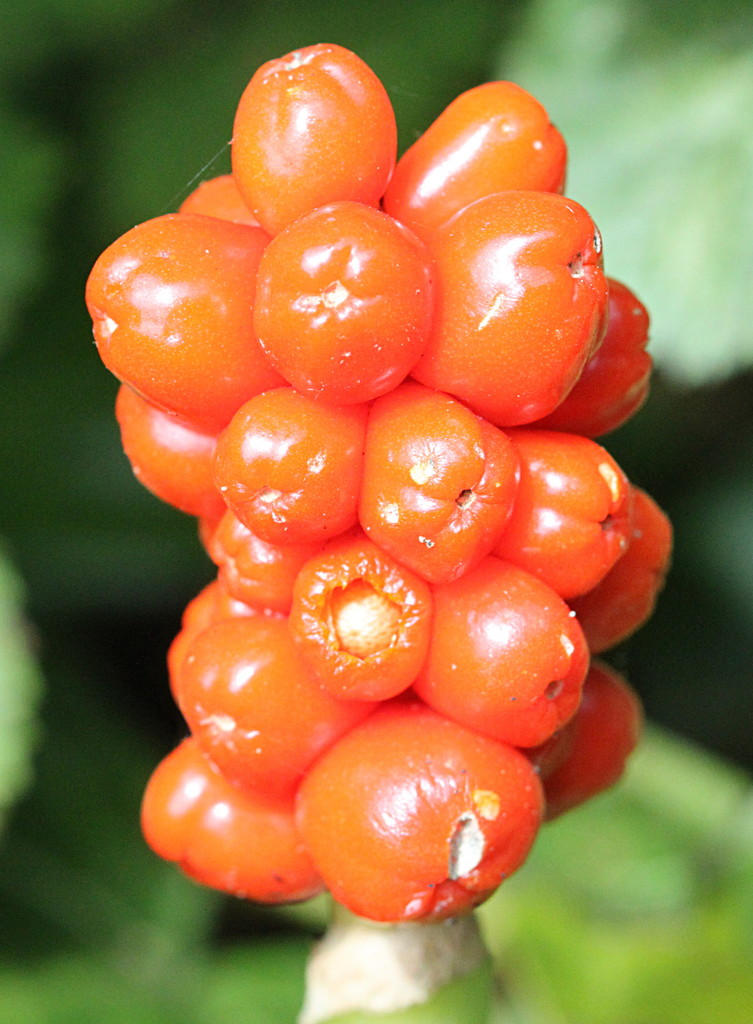Tomato: (243, 193, 448, 398)
